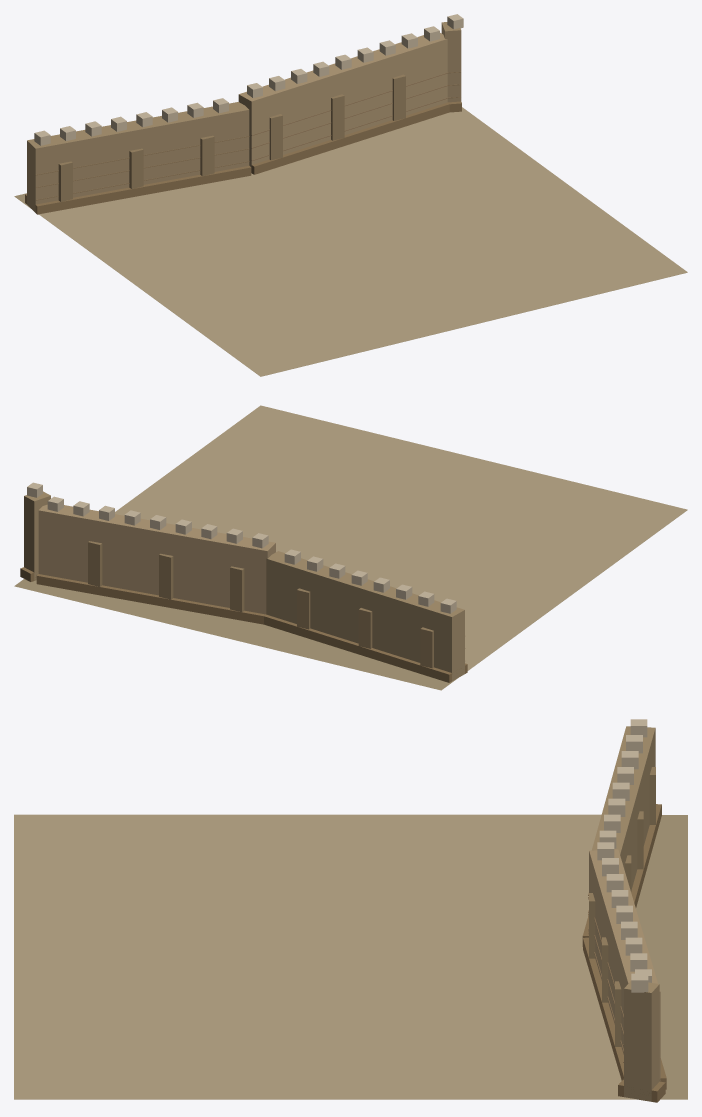
File: city-boundary-0_-2.glb
3 views of the same model, one above another, from view 1: azimuth 30°, elevation 25°; view 2: azimuth 150°, elevation 25°; view 3: azimuth 270°, elevation 25° (orthographic). The views are drawn at different scales.
Parts seen in each view (by area): view 1: city-boundary-0_-2; view 2: city-boundary-0_-2; view 3: city-boundary-0_-2.
Part boxes in pixels (x1,y1,x2,y2): city-boundary-0_-2: (14, 14, 687, 376); city-boundary-0_-2: (14, 405, 687, 690); city-boundary-0_-2: (14, 719, 687, 1102).
Size of the model in its own units: 32.48 by 6.31 by 32.
